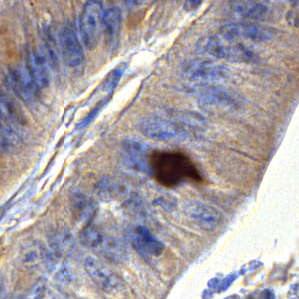Lymphocyte: (149, 148, 205, 191)
